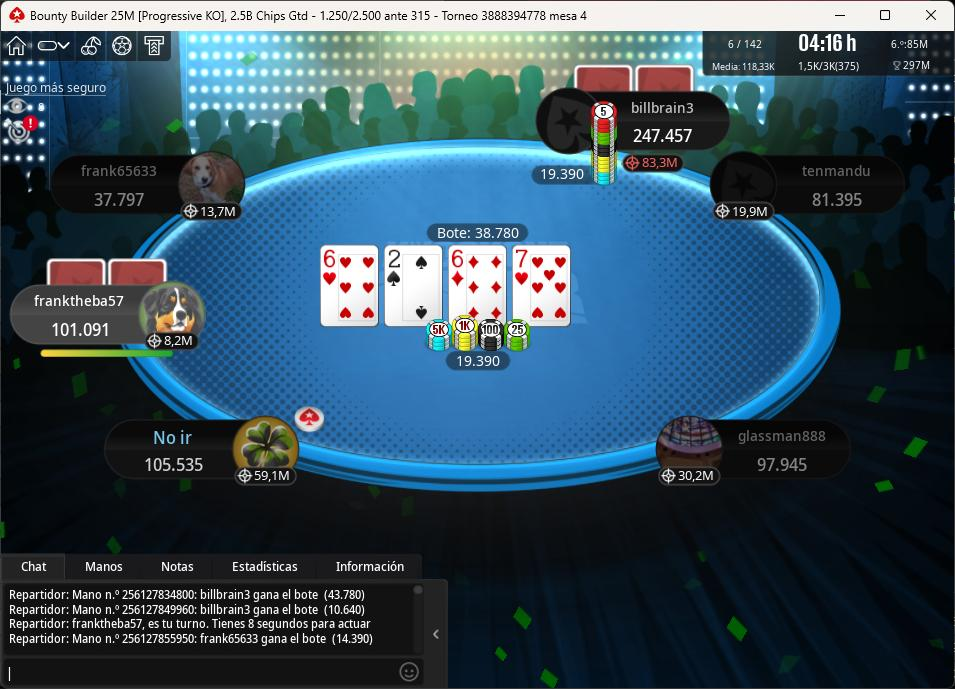Dealer: (295, 405, 324, 432)
HiddenCards: (576, 66, 694, 95), (46, 259, 168, 287)
Player: (9, 282, 208, 350), (103, 418, 300, 485), (50, 148, 246, 215), (652, 417, 850, 481), (716, 150, 911, 214)
PlayerChips: (808, 189, 875, 212), (88, 189, 153, 211), (140, 455, 209, 475), (751, 454, 814, 474)
Pot: (425, 220, 535, 245)
ShowedCards: (321, 248, 573, 332)
ShowedCards1: (319, 245, 384, 331)
ShowedCards2: (384, 246, 447, 330)
ShowedCards3: (446, 246, 511, 326)
ShowedCards4: (511, 241, 574, 327)
SmallBigBlind: (310, 7, 441, 24)
TablePot: (422, 315, 539, 380)
